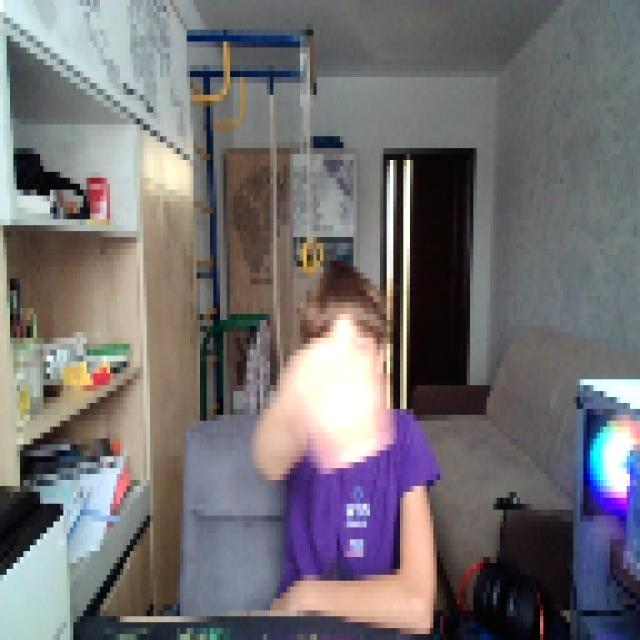left_click: (294, 326, 394, 468)
